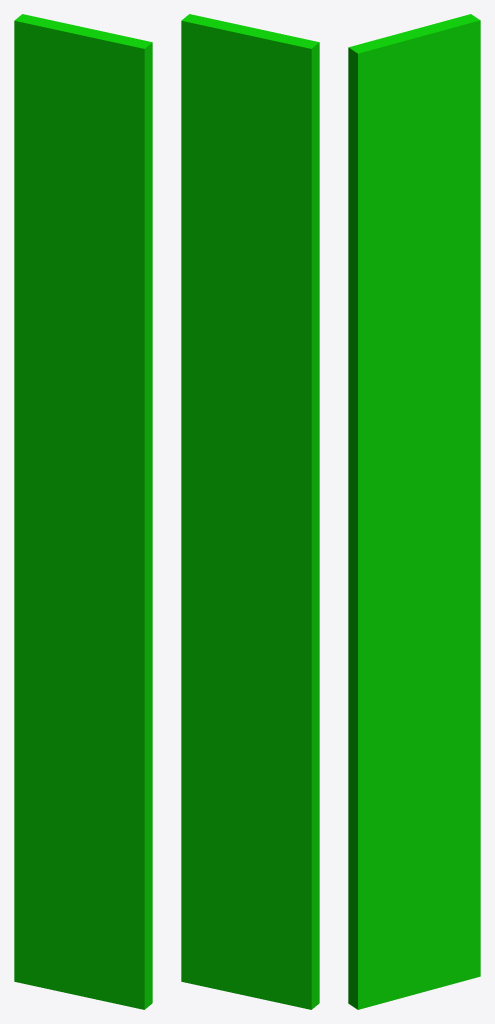
3 renders of one model, left to right at view 1: azimuth 30°, elevation 25°; view 2: azimuth 210°, elevation 25°; view 3: azimuth 270°, elevation 25°, orthographic.
Visible parts, largest first — view 1: Cube.003; view 2: Cube.003; view 3: Cube.003.
Boxes of the visible parts, left/top/right/bottom form: Cube.003: left=14, top=14, right=152, bottom=1009; Cube.003: left=181, top=14, right=319, bottom=1009; Cube.003: left=348, top=14, right=480, bottom=1009.
Bounding box in the file's own units: 422 × 4742 × 594.
